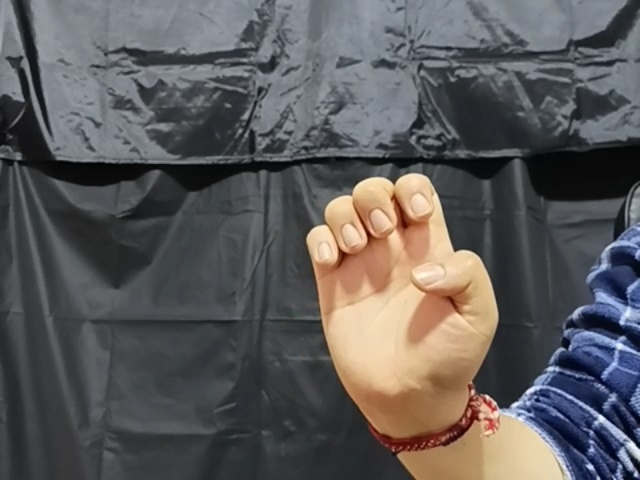E: (306, 165, 501, 435)
